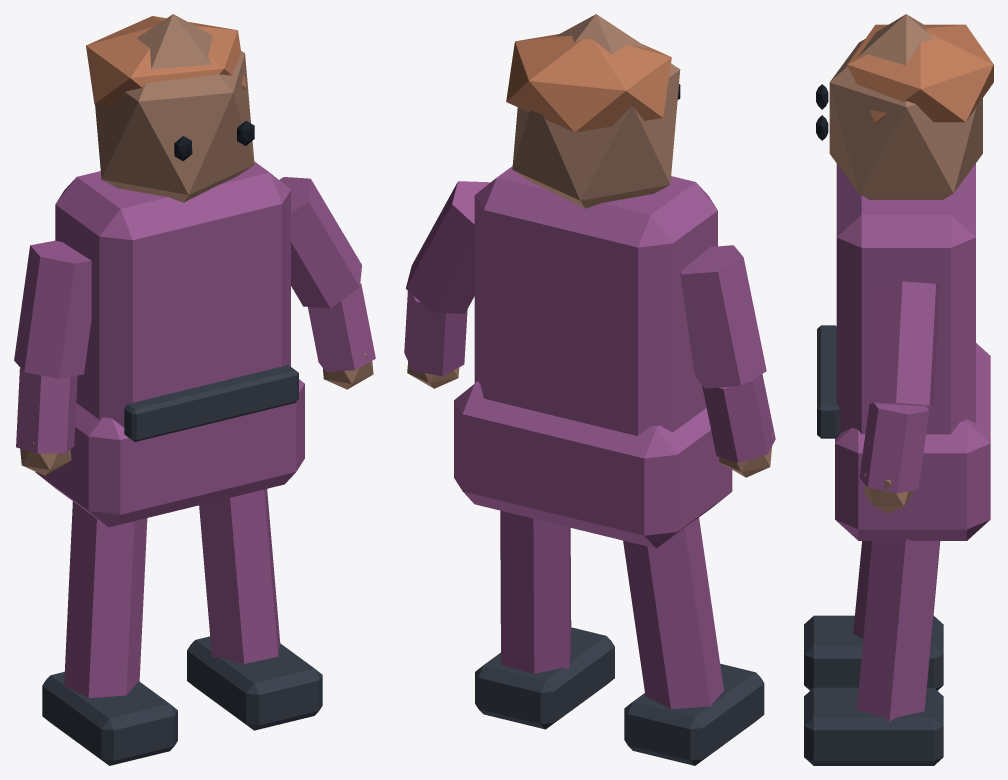
File: npcs_010_seed100.glb
The picture shows the model from 3 angles, left to right: view 1: azimuth 30°, elevation 25°; view 2: azimuth 150°, elevation 25°; view 3: azimuth 270°, elevation 25°; orthographic projection. The views are drawn at different scales.
Parts seen in each view (by area): view 1: npcs_010_seed100; view 2: npcs_010_seed100; view 3: npcs_010_seed100.
Part boxes in pixels (x1=…): npcs_010_seed100: x1=14, y1=14, x2=375, y2=765; npcs_010_seed100: x1=404, y1=14, x2=775, y2=765; npcs_010_seed100: x1=804, y1=14, x2=993, y2=765.
Size of the model in its own units: 0.9571 by 1.8 by 0.4386.
